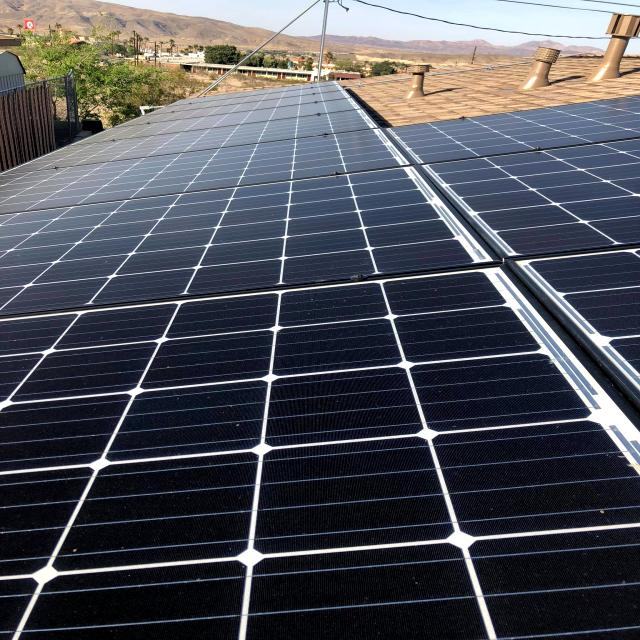dust: (9, 386, 618, 510), (278, 546, 461, 636), (36, 560, 225, 636), (508, 541, 632, 640)
